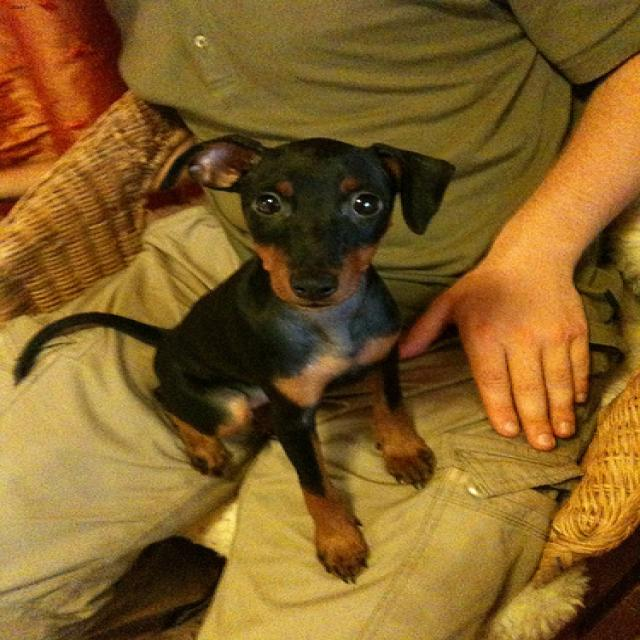dog-miniature_pinscher: (2, 127, 471, 595)
